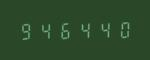four: (36, 20, 54, 40), (94, 19, 112, 39), (75, 20, 93, 39)
nine: (17, 20, 35, 40)
six: (56, 20, 74, 40)
zero: (113, 19, 131, 39)
